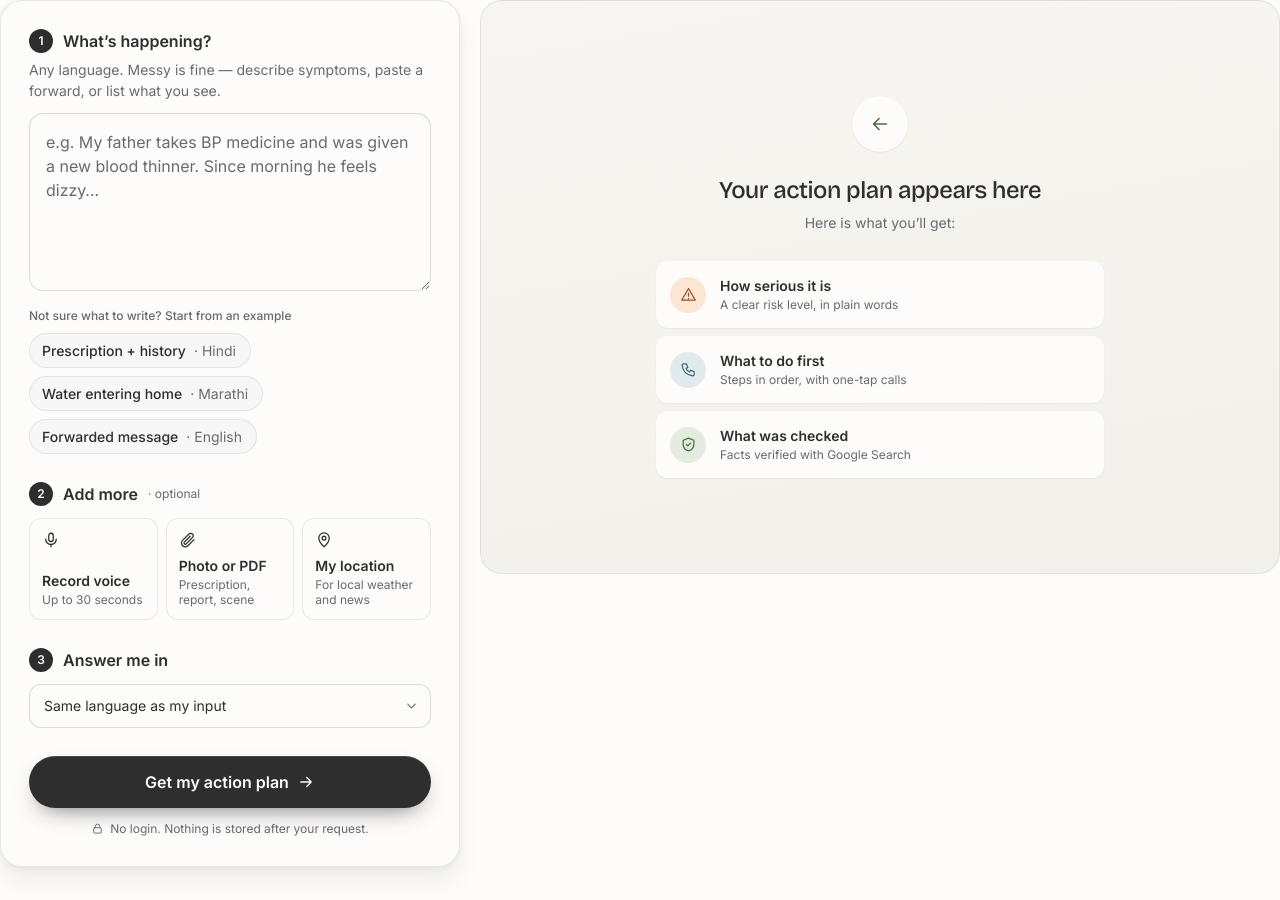
it: Workspace › asks for something before analysing
What coordinates should you click on to do the following:
click the button "Get my action plan"
I would click on:
 (230, 782)
Its box is [29,756,431,808].
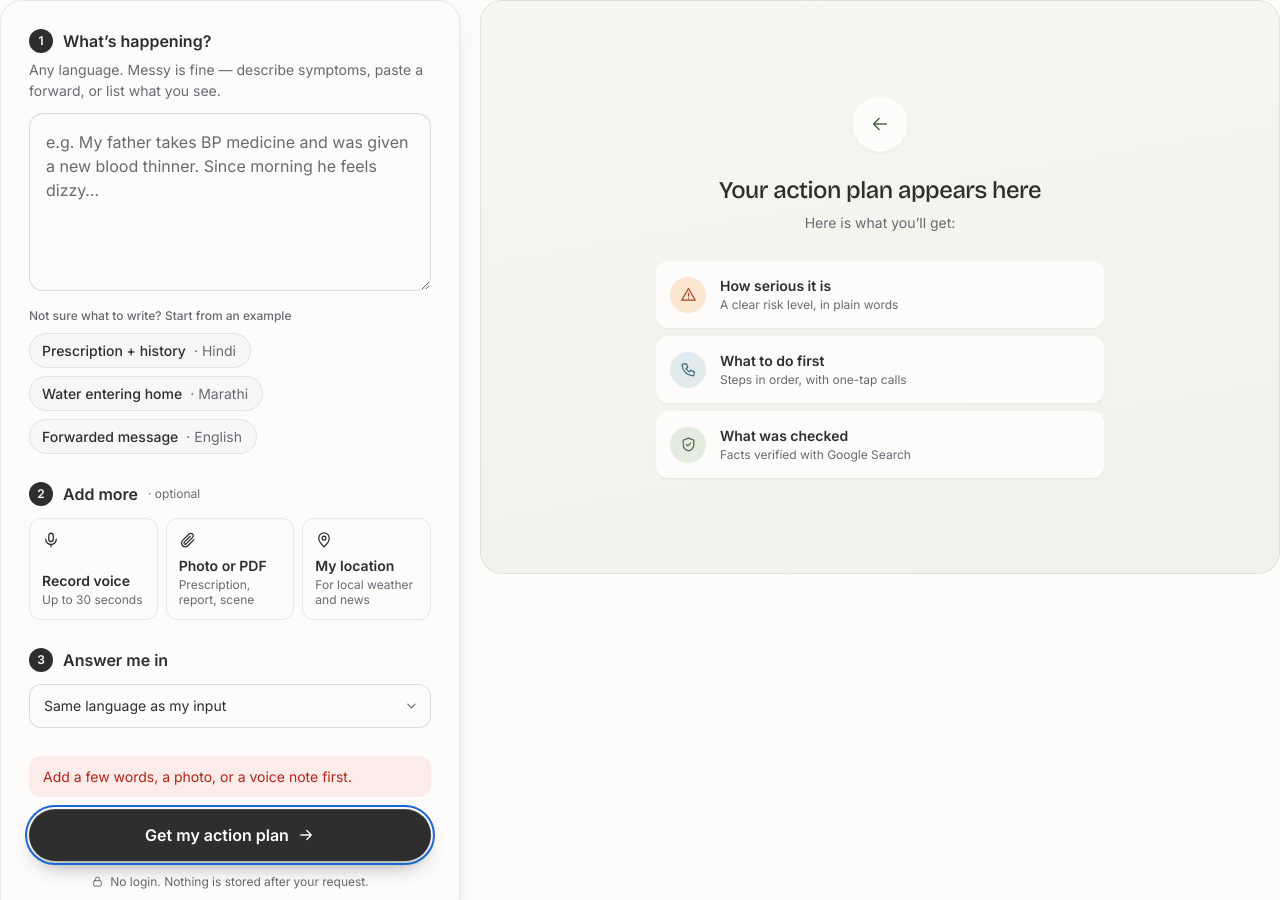
Expected: the message reads "Add a few words, a photo, or a voice note first.", [43,768,352,784]
